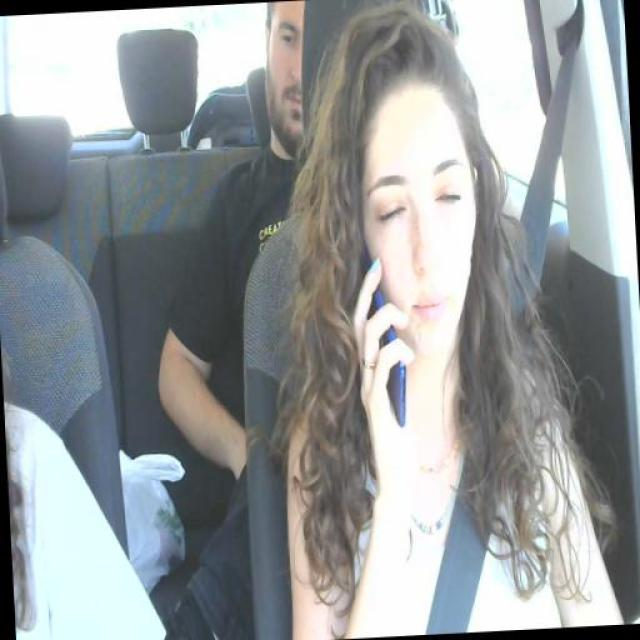phone: (348, 238, 407, 426)
